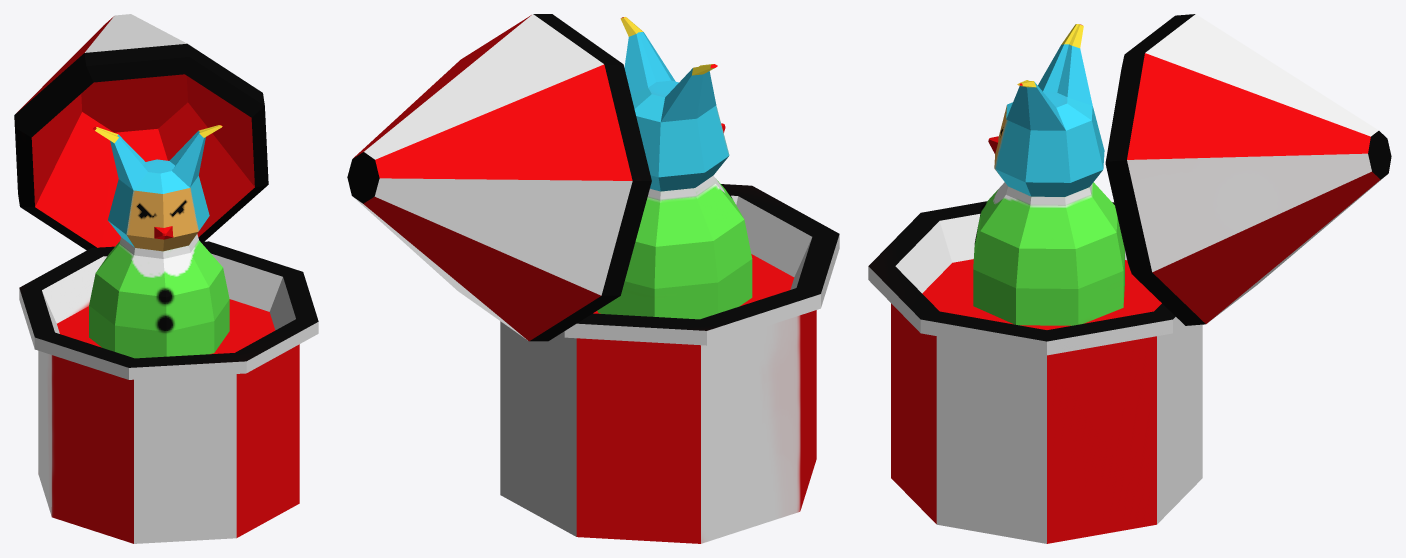
Rendered from clown.fbx.
The picture shows the model from 3 angles, left to right: view 1: azimuth 30°, elevation 25°; view 2: azimuth 150°, elevation 25°; view 3: azimuth 270°, elevation 25°; orthographic projection. The views are drawn at different scales.
Visible parts, largest first — view 1: Cylinder; view 2: Cylinder; view 3: Cylinder.
Part boxes in pixels (x1,y1,x2,y2): Cylinder: (14,14,318,543); Cylinder: (347,14,839,543); Cylinder: (868,14,1391,543).
Size of the model in its own units: 237 by 325 by 336.
1 material, 1 textured.
